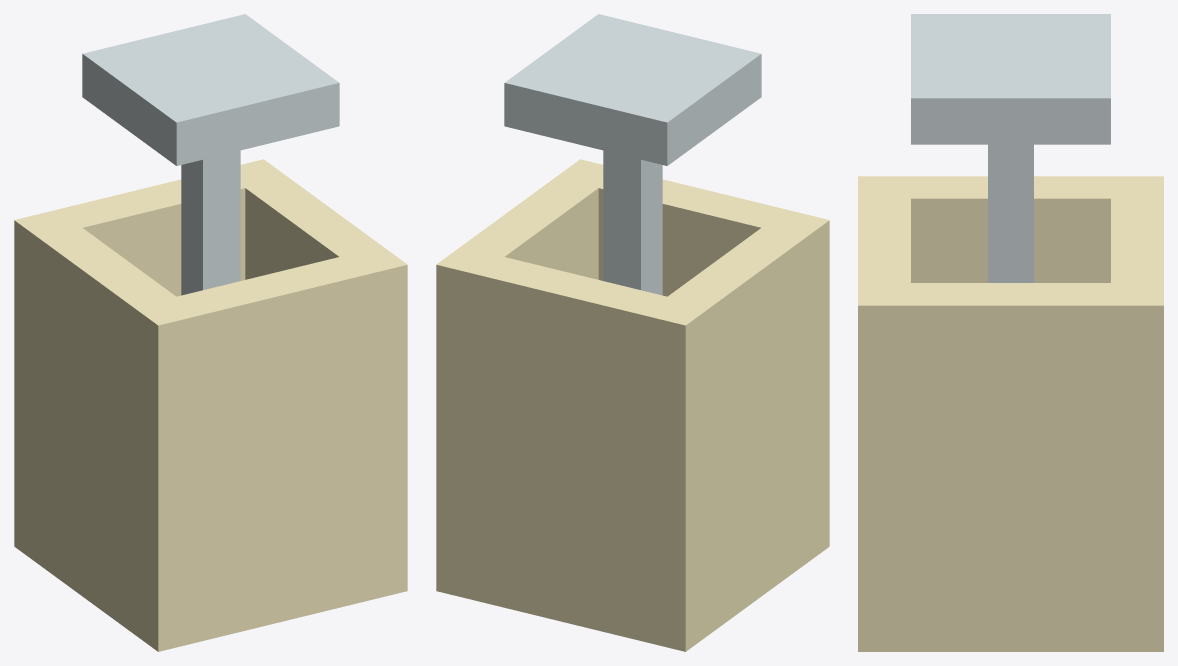
The model's file is lampSquareCeiling.gltf.
3 views of the same model, side by side, from view 1: azimuth 30°, elevation 25°; view 2: azimuth 150°, elevation 25°; view 3: azimuth 270°, elevation 25° (orthographic). The views are drawn at different scales.
Parts seen in each view (by area): view 1: lampSquareCeiling; view 2: lampSquareCeiling; view 3: lampSquareCeiling.
Boxes of the visible parts, x1=… form: lampSquareCeiling: x1=14, y1=14, x2=407, y2=651; lampSquareCeiling: x1=436, y1=14, x2=829, y2=651; lampSquareCeiling: x1=858, y1=14, x2=1163, y2=651.
Size of the model in its own units: 1.2 by 2.3 by 1.2.
